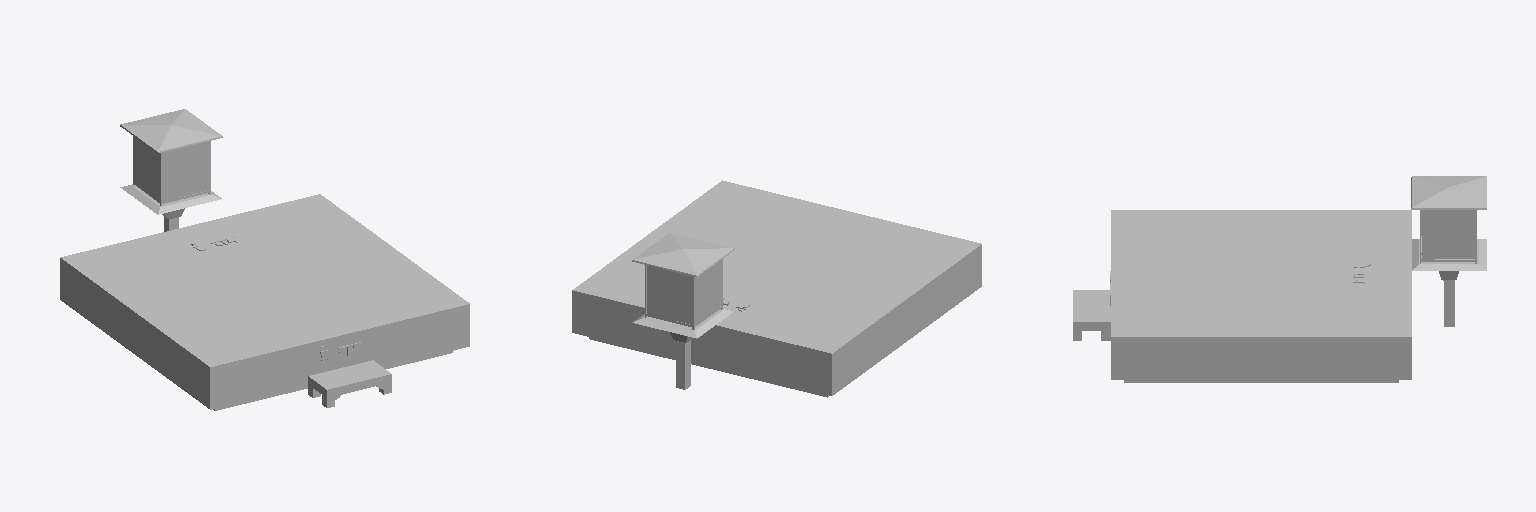
File: RajGhat.obj
The picture shows the model from 3 angles: view 1: azimuth 30°, elevation 25°; view 2: azimuth 150°, elevation 25°; view 3: azimuth 270°, elevation 25°; orthographic projection.
Visible parts, largest first — view 1: RajGhat; view 2: RajGhat; view 3: RajGhat.
Boxes of the visible parts, x1,y1,x2,y2 form: RajGhat: [60, 109, 469, 410]; RajGhat: [572, 180, 981, 397]; RajGhat: [1073, 176, 1486, 382].
Bounding box in the file's own units: 1200 × 607 × 1653.